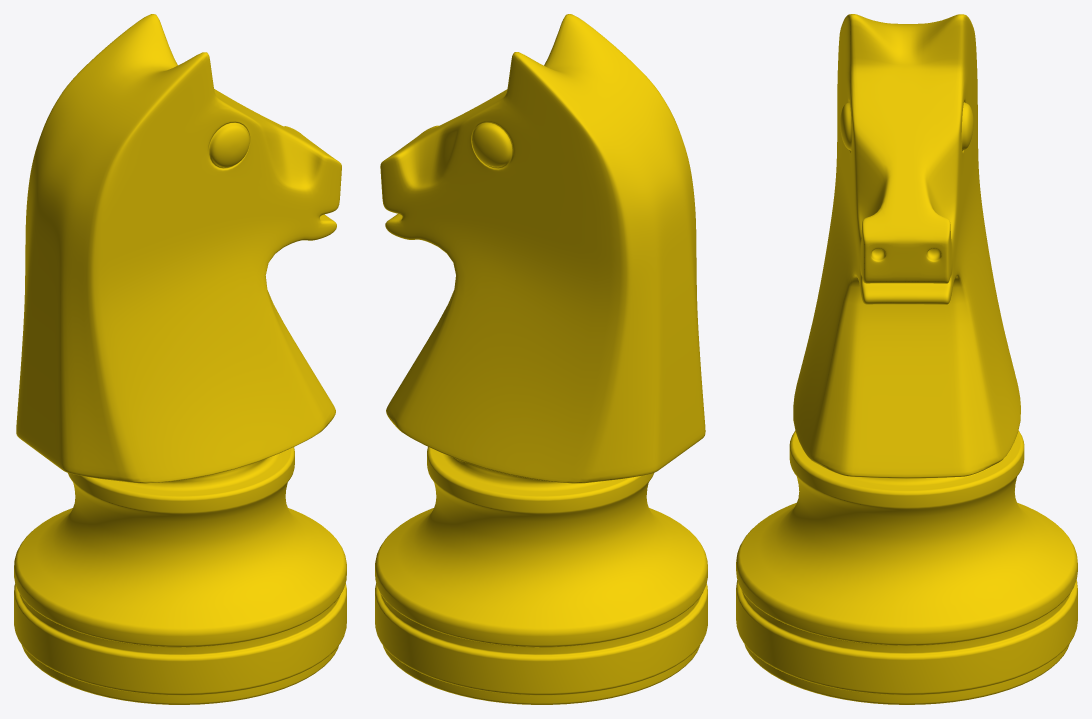
The model's file is yellow_horse.glb.
3 views of the same model, side by side, from view 1: azimuth 30°, elevation 25°; view 2: azimuth 150°, elevation 25°; view 3: azimuth 270°, elevation 25° (orthographic). The views are drawn at different scales.
Parts seen in each view (by area): view 1: Chess_piece_Horse_1_Black_HP__2_; view 2: Chess_piece_Horse_1_Black_HP__2_; view 3: Chess_piece_Horse_1_Black_HP__2_.
Part boxes in pixels (x1,y1,x2,y2): Chess_piece_Horse_1_Black_HP__2_: (14,14,346,704); Chess_piece_Horse_1_Black_HP__2_: (375,14,707,704); Chess_piece_Horse_1_Black_HP__2_: (736,14,1077,704).
Bounding box in the file's own units: 0.0519 × 0.1041 × 0.0519.
